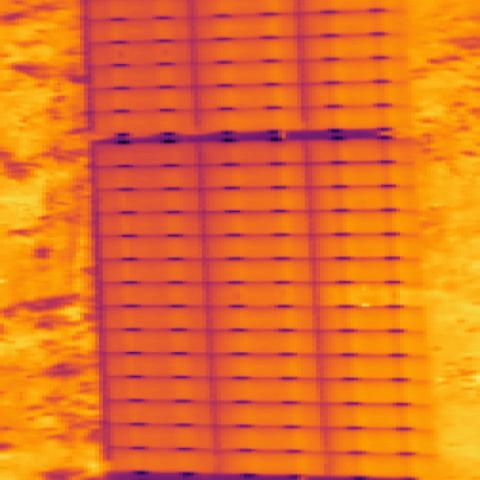fault: (358, 302, 373, 308)
